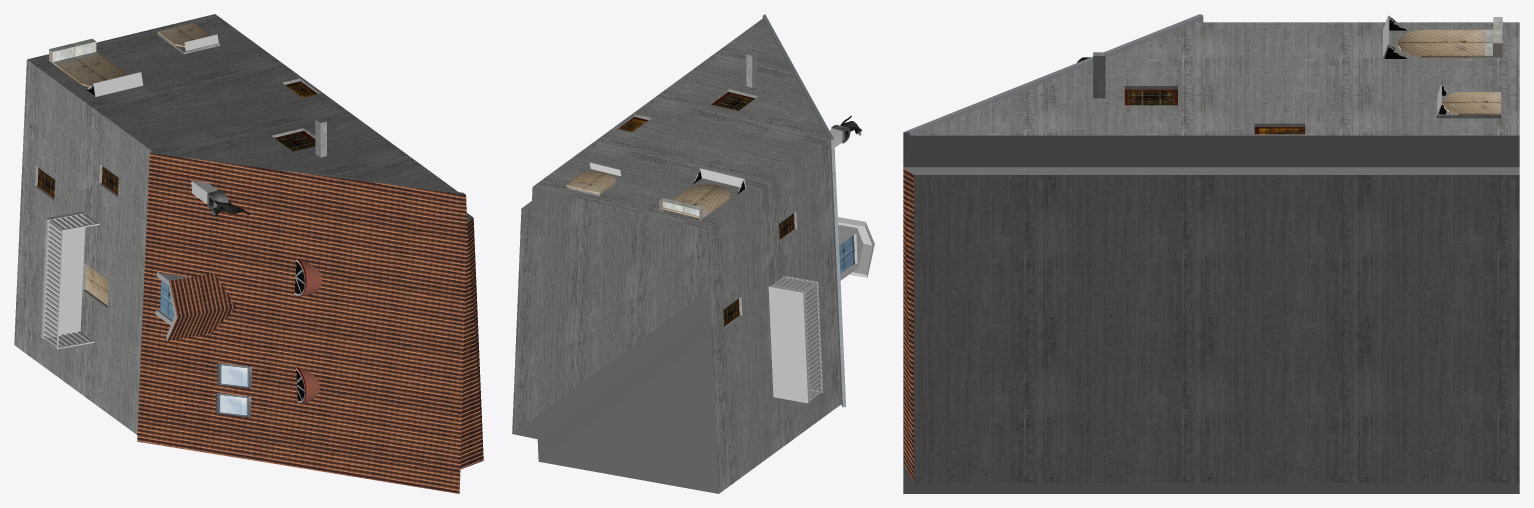
The model's file is Vene_12b.obj.
The picture shows the model from 3 angles, left to right: view 1: azimuth 30°, elevation 25°; view 2: azimuth 150°, elevation 25°; view 3: azimuth 270°, elevation 25°; orthographic projection. The views are drawn at different scales.
Parts seen in each view (by area): view 1: Vene_12b; view 2: Vene_12b; view 3: Vene_12b.
Part boxes in pixels (bbox=[...]): Vene_12b: bbox=[14, 14, 483, 493]; Vene_12b: bbox=[512, 14, 874, 493]; Vene_12b: bbox=[903, 14, 1519, 493].
Size of the model in its own units: 9.28 by 11.33 by 15.64.
